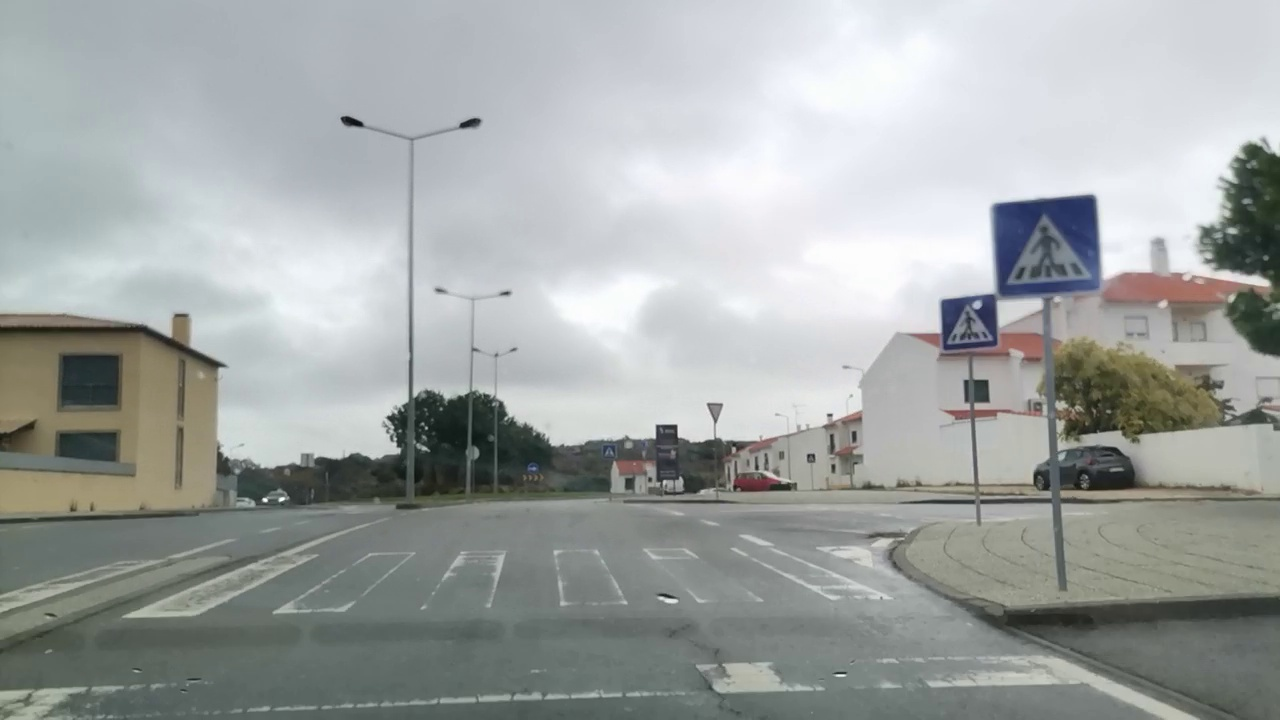Stairs: (124, 545, 896, 614)
